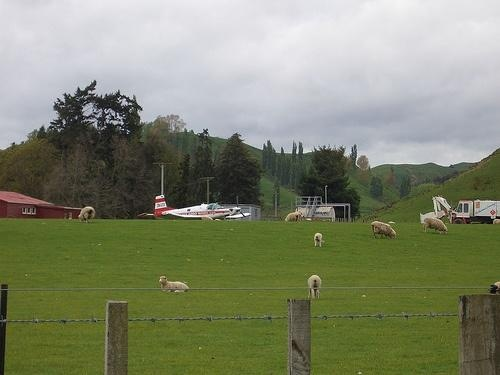aeroplane: (140, 196, 245, 221)
sheep: (370, 220, 398, 241), (159, 276, 190, 294), (425, 219, 450, 237), (309, 275, 323, 300), (78, 208, 97, 223), (312, 234, 324, 246)
